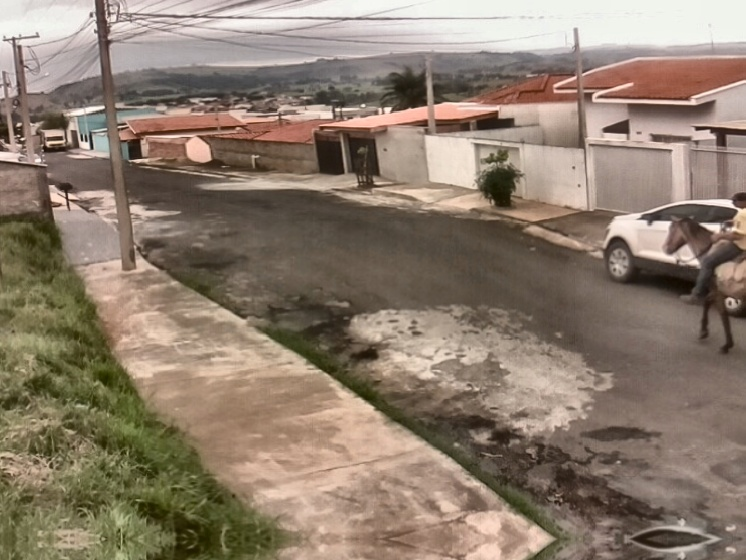person: (681, 192, 746, 308)
